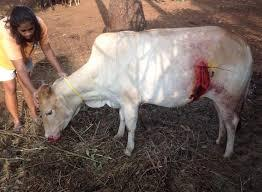cut: (172, 46, 228, 105)
